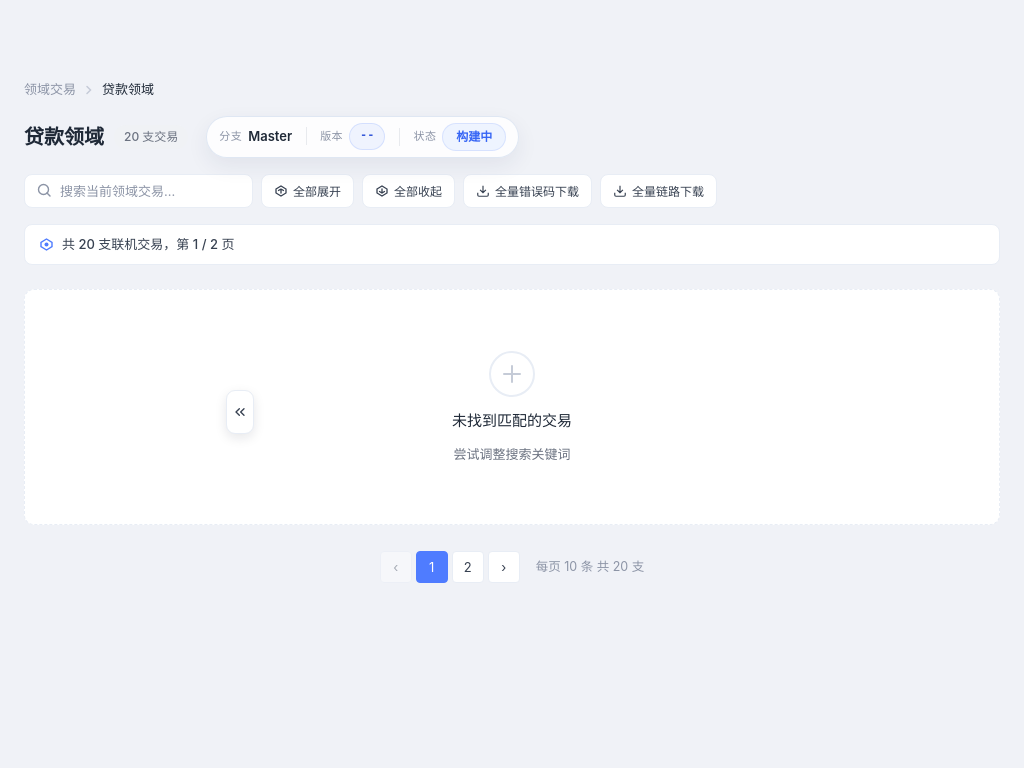
Test: TransactionAnalysis domain chain export › keeps the dialog open and clears the token when the token is rejected
Click the button with test id "export-domain-chains".
click(658, 190)  # box x1=600 y1=174 x2=717 y2=208
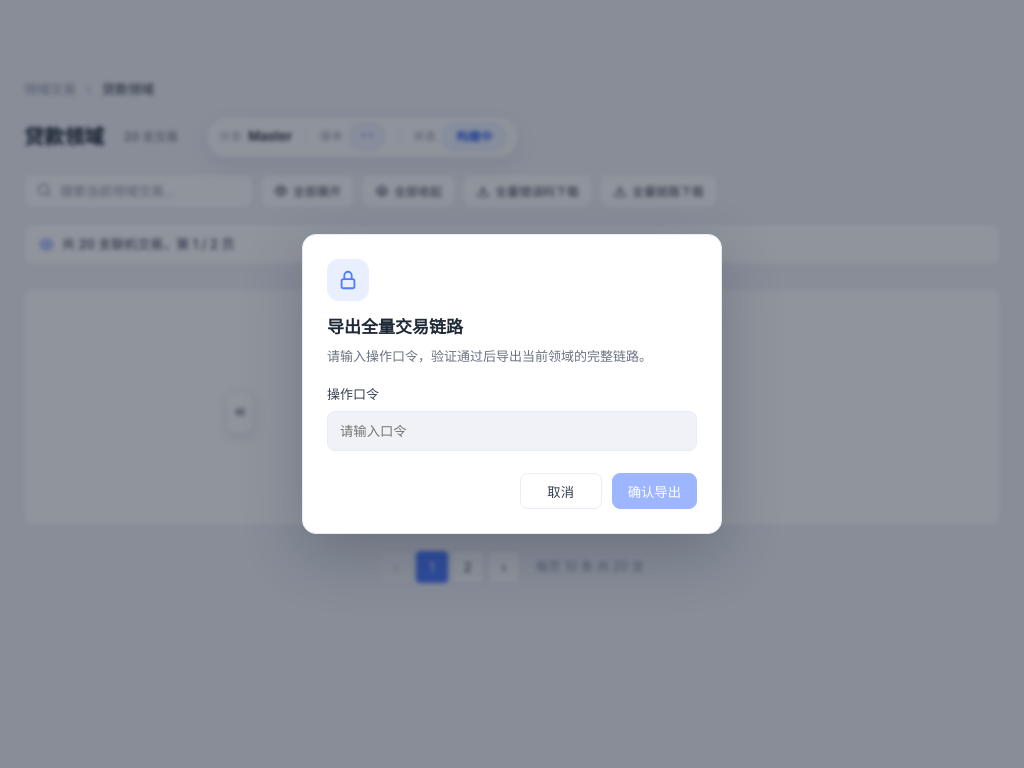
Type "wrong" into the password field with test id "chain-export-token".
click(512, 431); type("wrong")  # box x1=327 y1=411 x2=697 y2=451
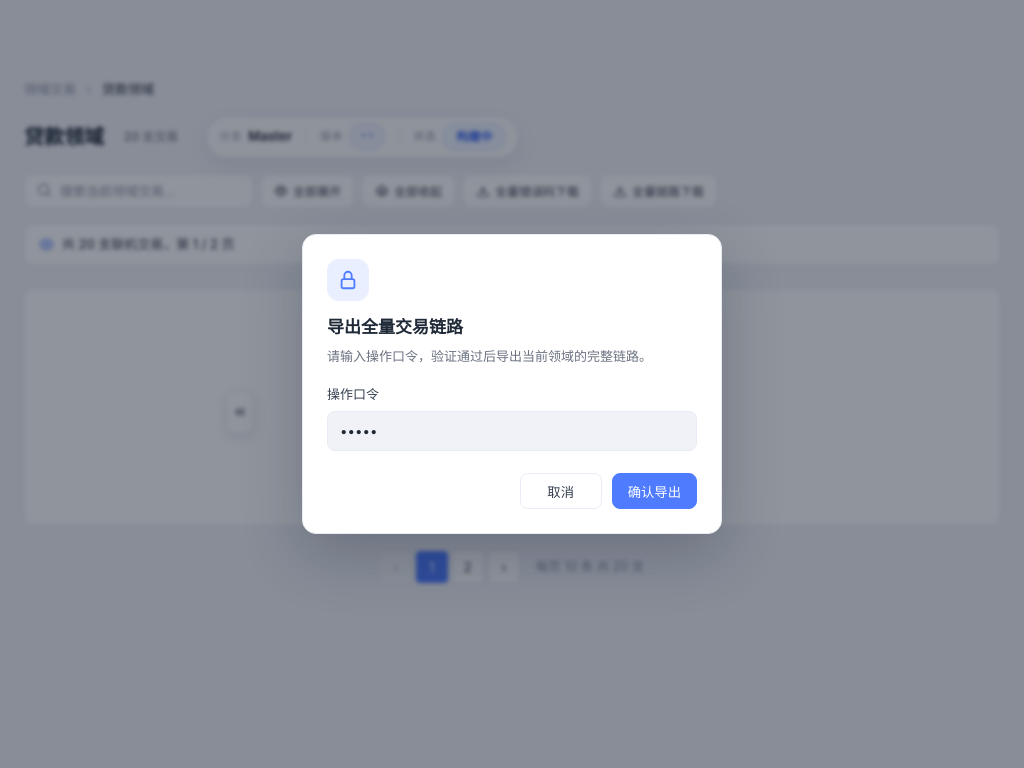
Click the button with test id "confirm-chain-export".
click(654, 491)  # box x1=612 y1=473 x2=697 y2=509
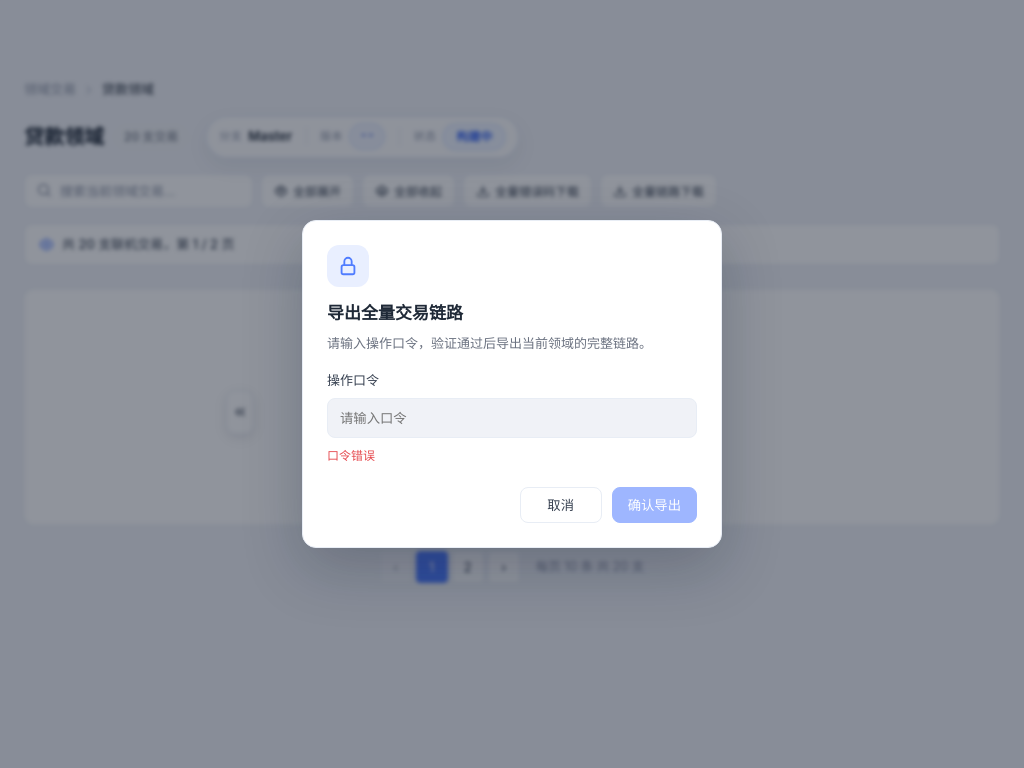
expect the dialog with test id "chain-export-token-dialog" is shown: met, box x1=302 y1=220 x2=722 y2=548
expect the password field with test id "chain-export-token" is empty: met, box x1=327 y1=398 x2=697 y2=438
expect the message with test id "chain-export-dialog-error" reads "口令错误": met, box x1=327 y1=448 x2=375 y2=463
